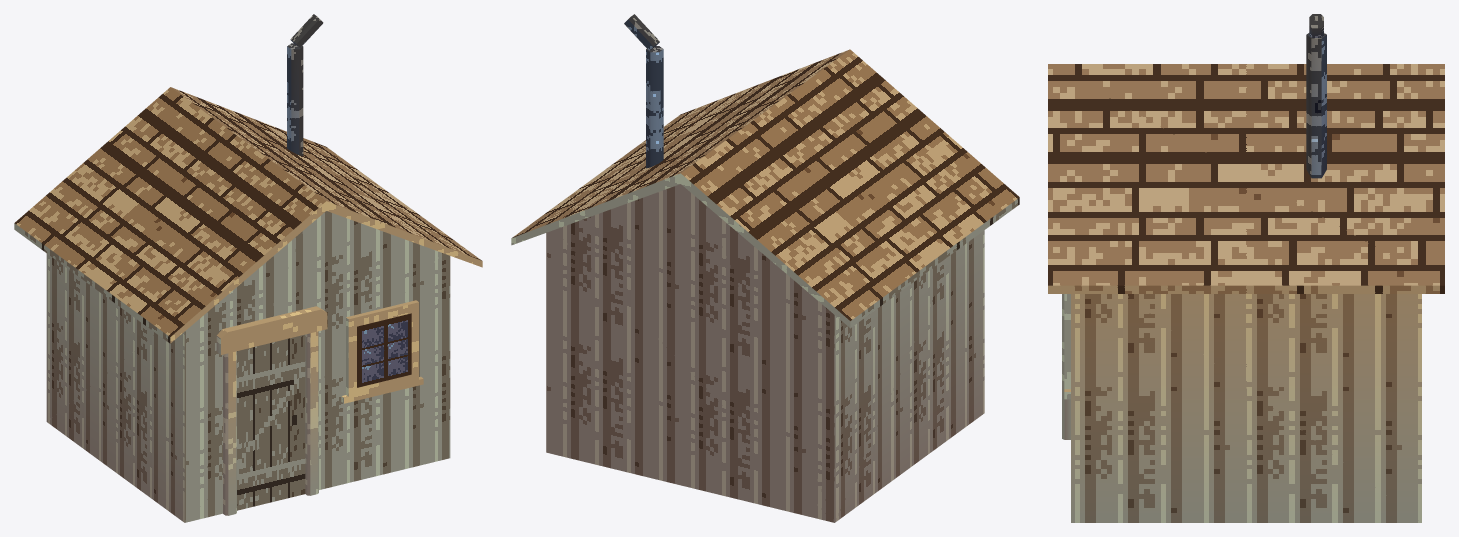
Rendered from wtown.shack__shingle.glb.
3 renders of one model, left to right at view 1: azimuth 30°, elevation 25°; view 2: azimuth 150°, elevation 25°; view 3: azimuth 270°, elevation 25°, orthographic. The views are drawn at different scales.
Parts seen in each view (by area): view 1: kit_body, kit_roof, kit_card_panes, kit_trim, kit_windows, kit_pipe; view 2: kit_body, kit_roof, kit_pipe; view 3: kit_roof, kit_body, kit_pipe, kit_windows, kit_trim.
Boxes of the visible parts, x1,y1,x2,y2 form: kit_body: (46,211,450,522); kit_roof: (14,87,482,343); kit_card_panes: (237,313,411,510); kit_trim: (216,306,327,515); kit_windows: (341,300,423,403); kit_pipe: (287,43,303,155); kit_body: (546,184,984,522); kit_roof: (511,49,1019,328); kit_pipe: (646,46,663,168); kit_roof: (1048,64,1444,293); kit_body: (1071,294,1421,522); kit_pipe: (1306,33,1326,178); kit_windows: (1064,294,1070,399); kit_trim: (1062,294,1070,439).
Size of the model in its own units: 4 by 4.67 by 3.46.
Materials: 6 (6 with a texture image).
